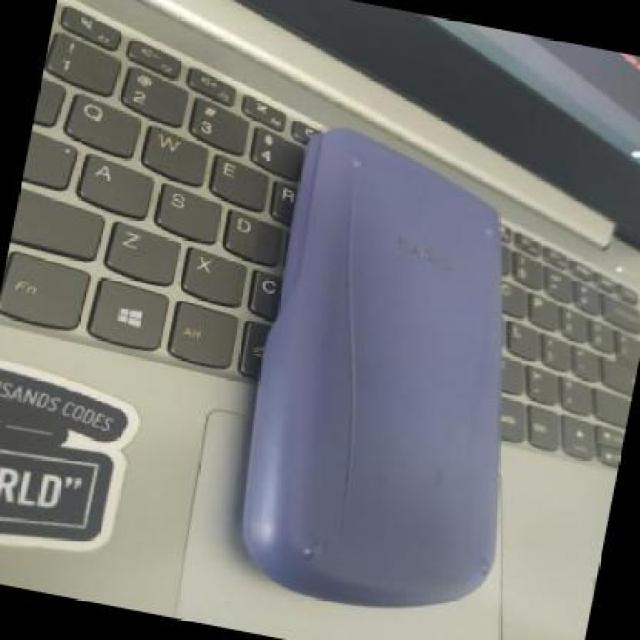Calculator: (185, 111, 586, 638)
